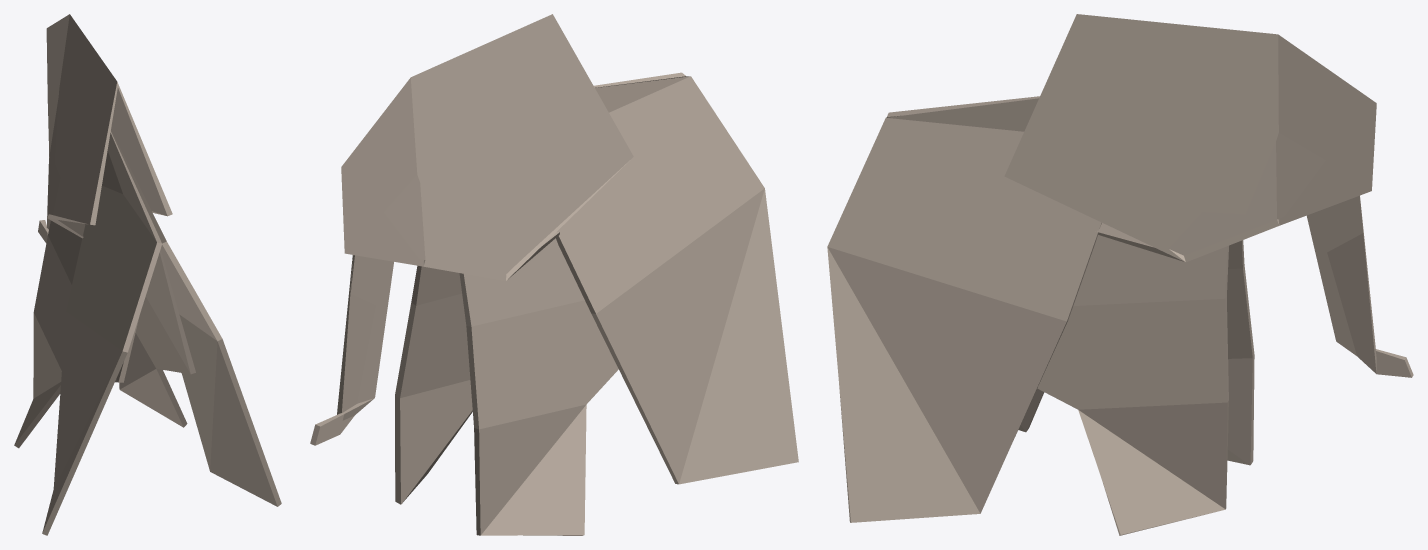
Rendered from elephant.fbx.
The picture shows the model from 3 angles, left to right: view 1: azimuth 30°, elevation 25°; view 2: azimuth 150°, elevation 25°; view 3: azimuth 270°, elevation 25°; orthographic projection. The views are drawn at different scales.
Visible parts, largest first — view 1: Elephant; view 2: Elephant; view 3: Elephant.
Boxes of the visible parts, x1=… form: Elephant: x1=14, y1=14, x2=281, y2=535; Elephant: x1=310, y1=14, x2=798, y2=535; Elephant: x1=827, y1=14, x2=1413, y2=535.
Bounding box in the file's own units: 344 × 554 × 625.
